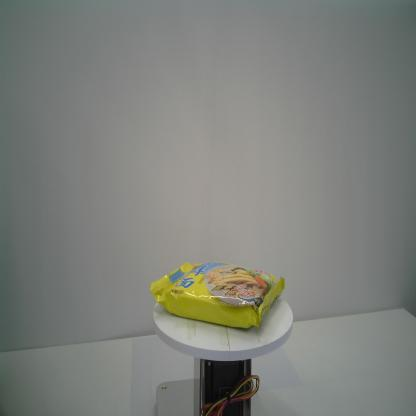Instant Noodles: (150, 261, 285, 329)
